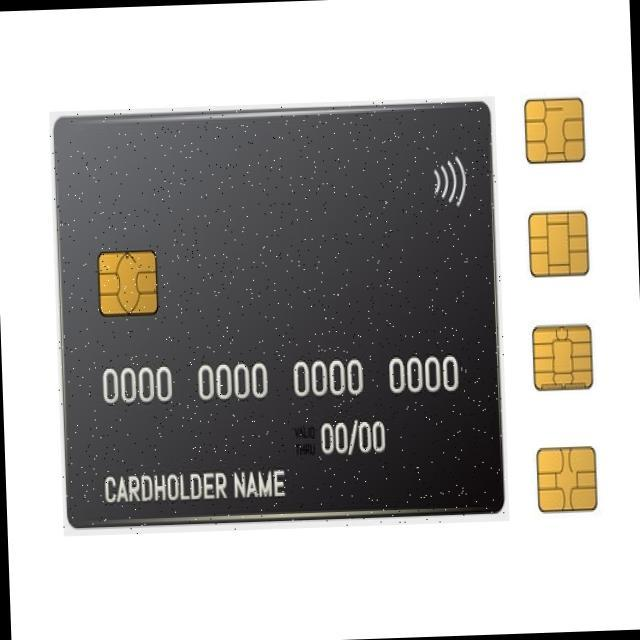payment_card: (51, 99, 504, 527)
